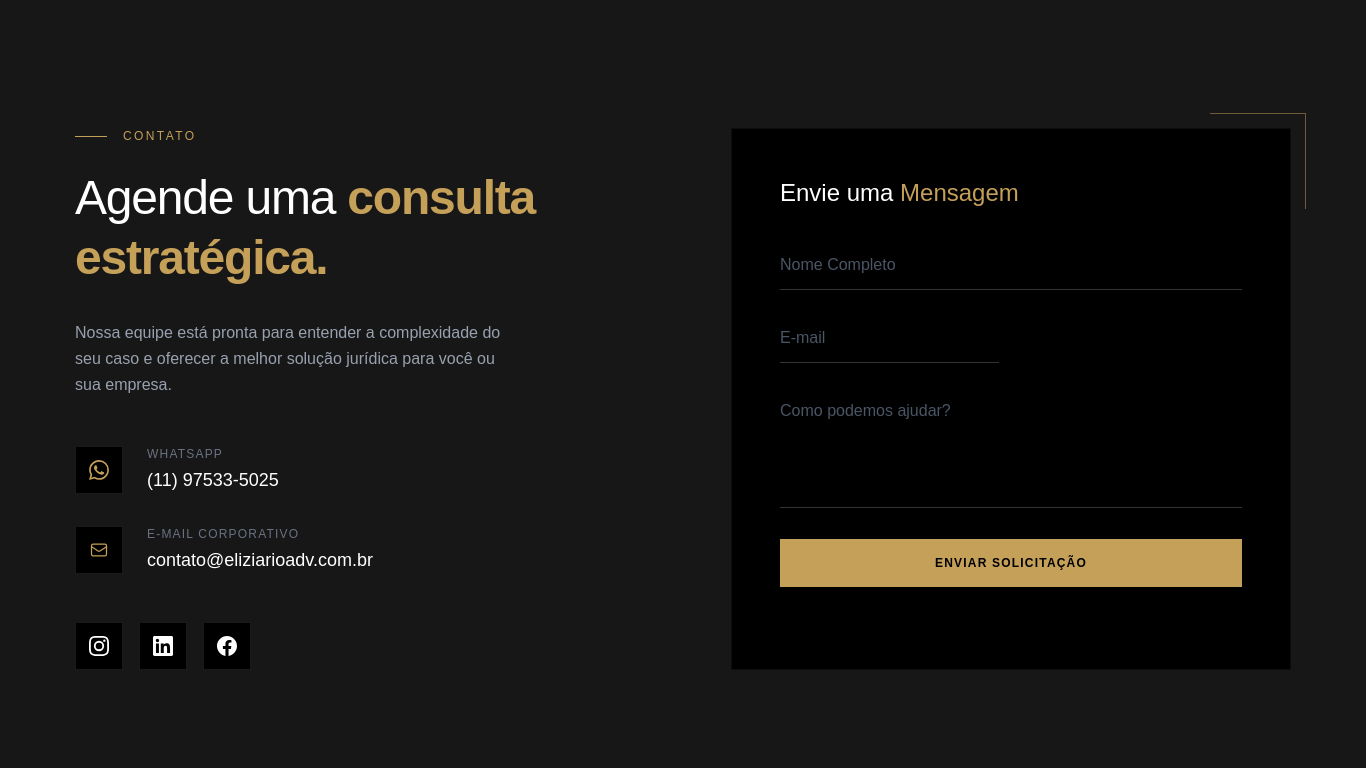
Contact Component › deve exibir erros de validação se campos obrigatórios estiverem vazios
Click the button "Enviar Solicitação". click: [1011, 563]
box: [780,539,1242,587]
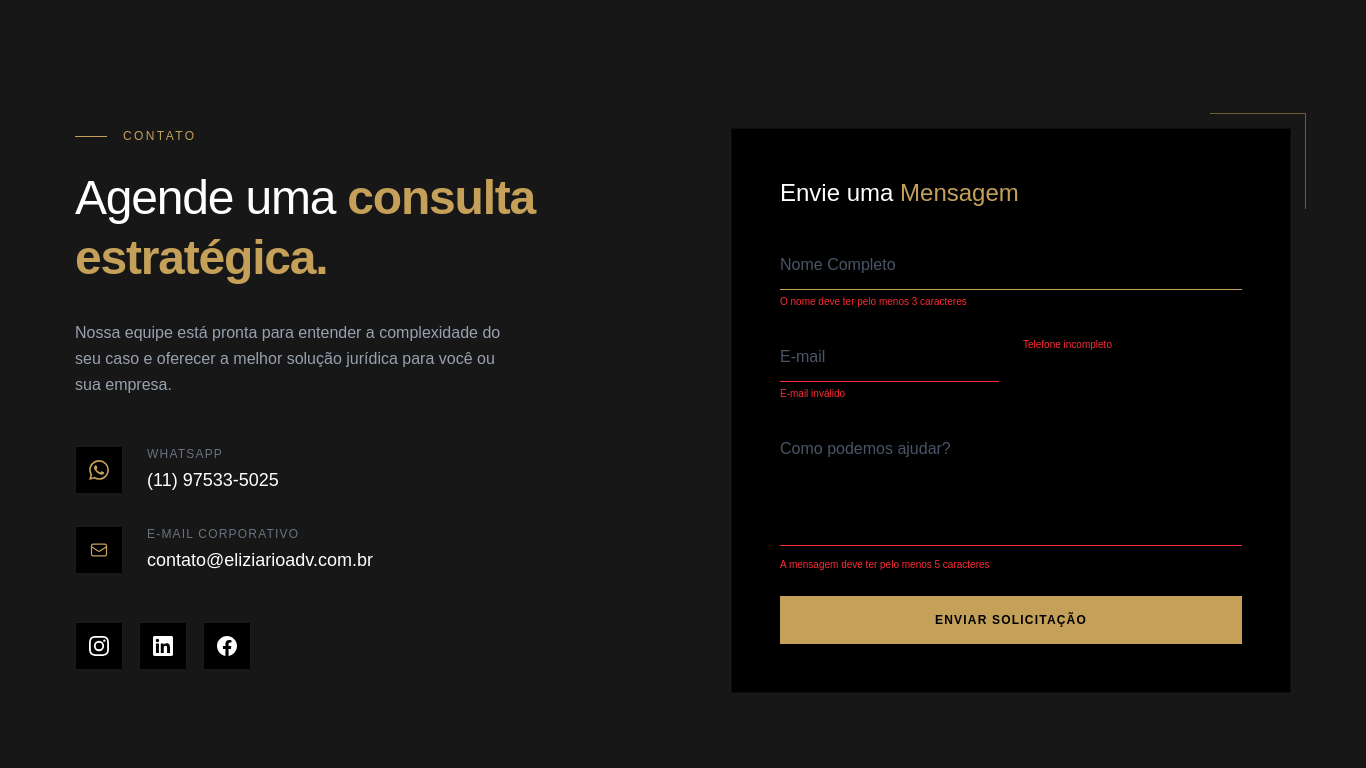
Expected: the text "O nome deve ter pelo menos 3 caracteres" is shown, [780,296,967,307]
Expected: the text "E-mail inválido" is shown, [780,388,845,399]
Expected: the text "Telefone incompleto" is shown, [1023,339,1112,350]
